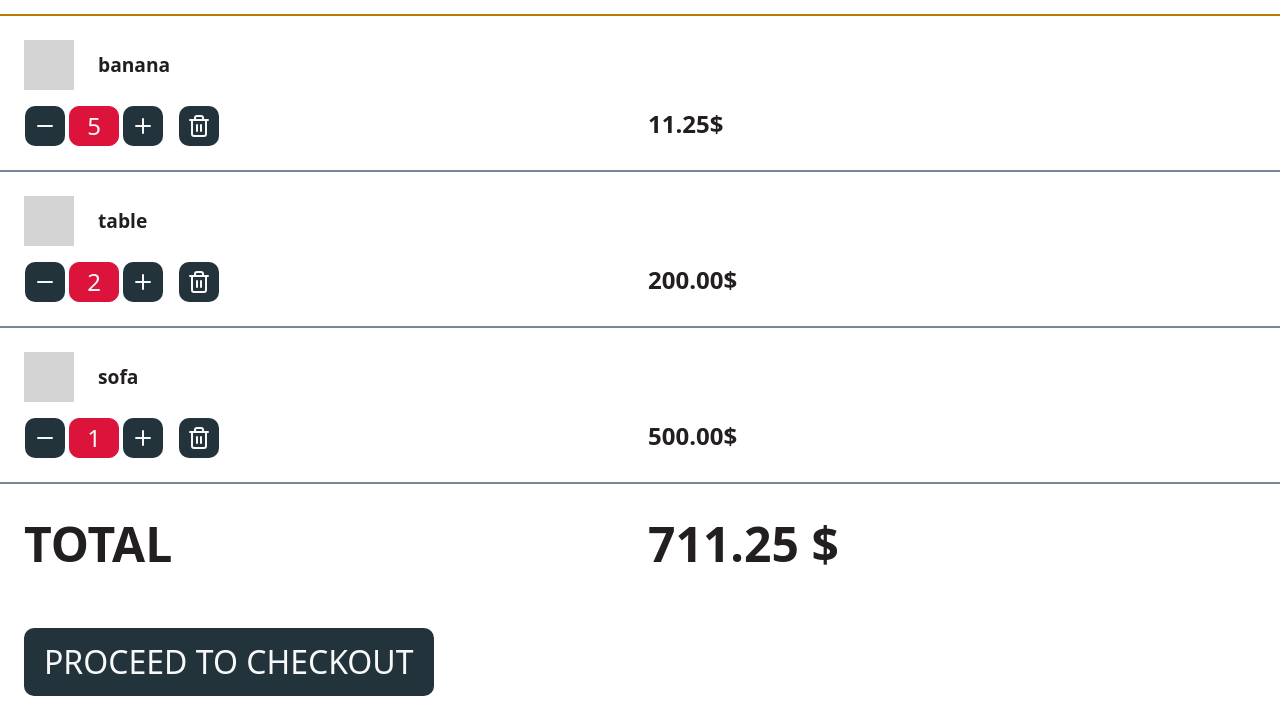
ConfirmationModal component › is opened within OrderModal
The image size is (1280, 720).
(page scrolled)
Click the button "PROCEED TO CHECKOUT" at {"x": 229, "y": 662}, box [24, 628, 434, 696]
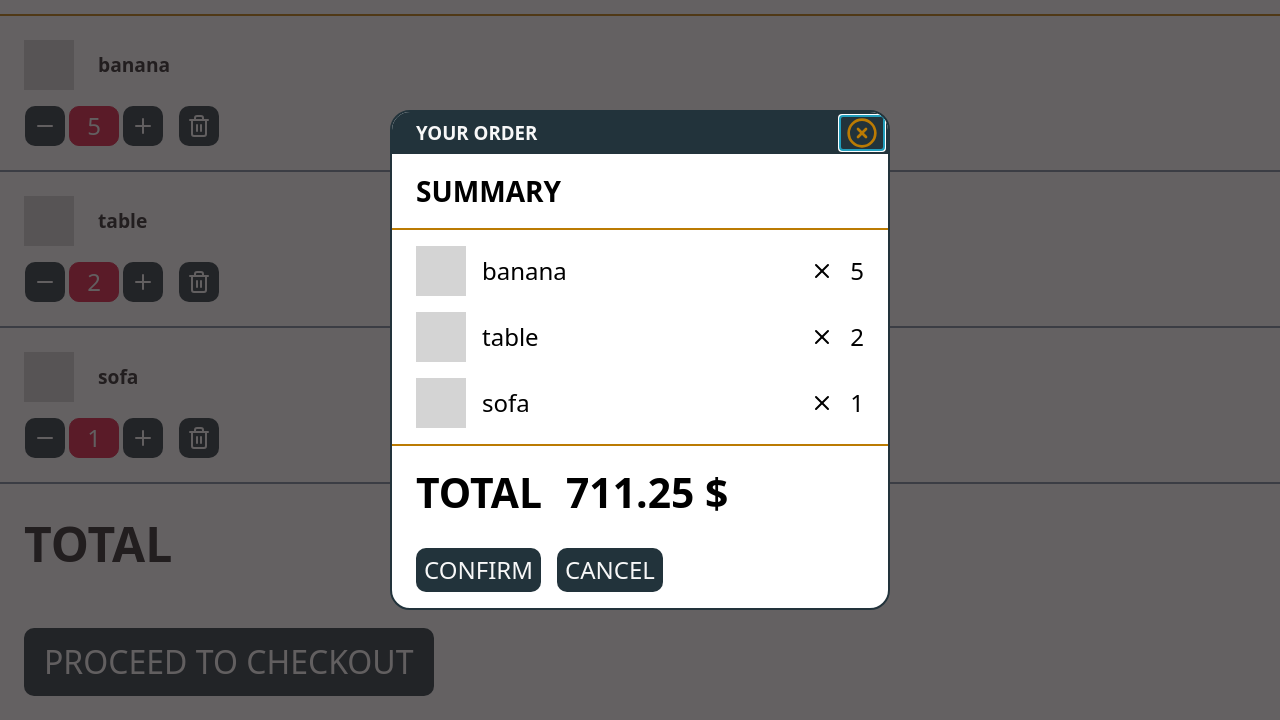
Click the button "CONFIRM" at {"x": 478, "y": 570}, box [416, 548, 541, 592]
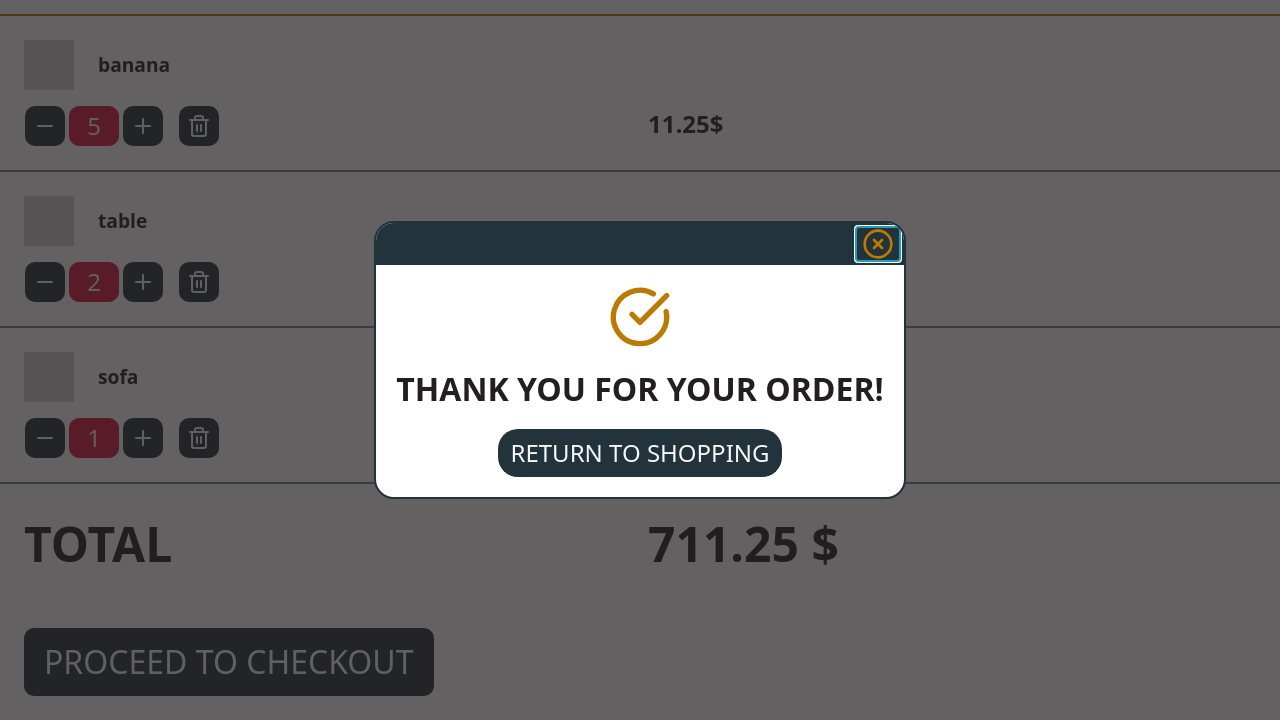
Check: the dialog with test id "confirmation" is shown, box [374, 221, 906, 499]
